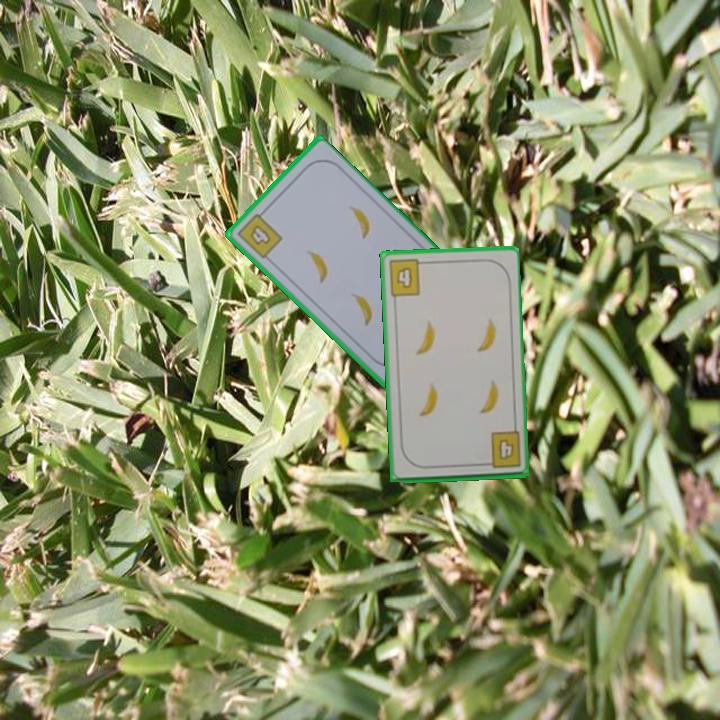4b: (233, 206, 285, 262), (479, 428, 524, 471), (385, 256, 429, 299)
